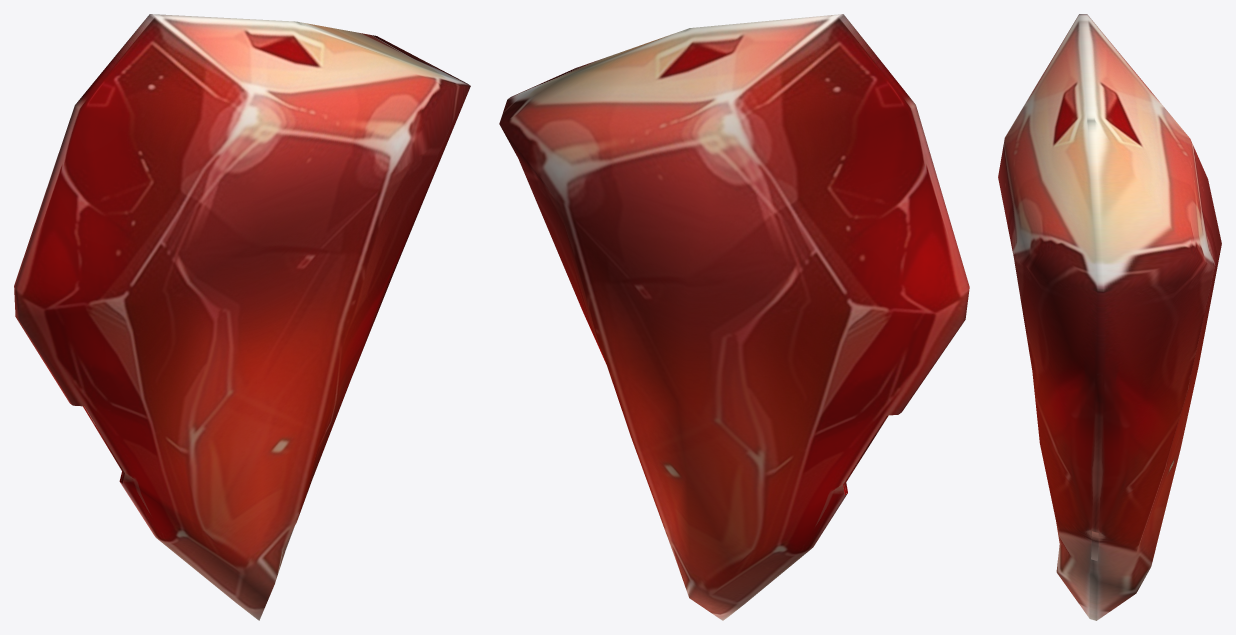
File: gme004.FBX
3 renders of one model, left to right at view 1: azimuth 30°, elevation 25°; view 2: azimuth 150°, elevation 25°; view 3: azimuth 270°, elevation 25°, orthographic. The views are drawn at different scales.
Visible parts, largest first — view 1: gem004; view 2: gem004; view 3: gem004.
Part boxes in pixels (x1=…): gem004: x1=14, y1=14, x2=470, y2=620; gem004: x1=499, y1=14, x2=969, y2=620; gem004: x1=998, y1=14, x2=1221, y2=620.
Size of the model in its own units: 232 by 307 by 111.
Materials: 1 (1 with a texture image).
